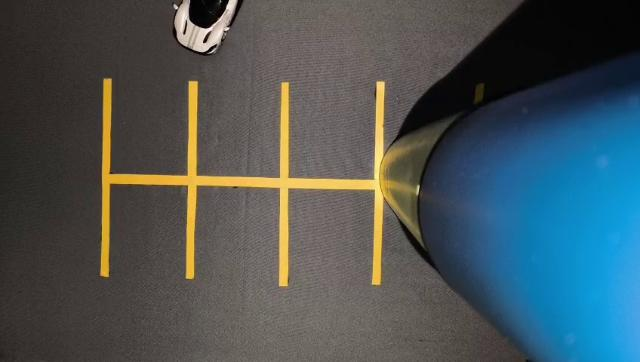toy_car: (149, 0, 261, 71)
